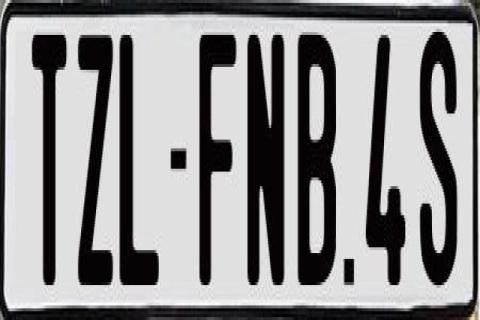0: (365, 32, 406, 288)
B: (296, 35, 336, 299)
F: (200, 29, 240, 288)
L: (118, 29, 160, 279)
N: (245, 35, 287, 285)
S: (420, 24, 458, 282)
T: (32, 35, 70, 291)
Z: (78, 26, 114, 276)
